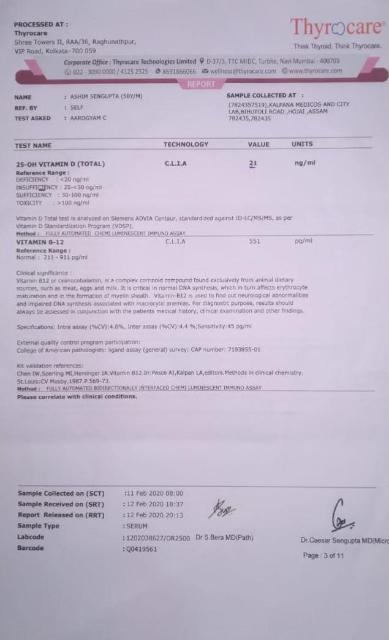Clinical_Conditions: (14, 270, 313, 320)
Name: (69, 93, 144, 100)
Ref_By: (70, 103, 85, 111)
Technology: (164, 158, 189, 169), (165, 238, 187, 245)
Test_Asked: (70, 113, 109, 123)
Test_Name: (15, 158, 108, 213), (15, 239, 94, 266)
Unit: (292, 159, 320, 168), (294, 237, 315, 247)
Value: (248, 237, 265, 247), (247, 159, 261, 169)
